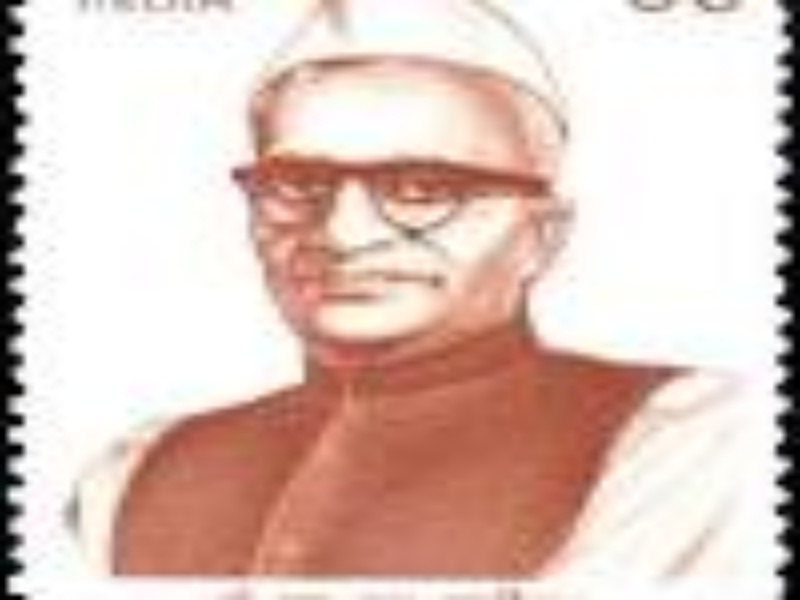person: (38, 2, 769, 584)
